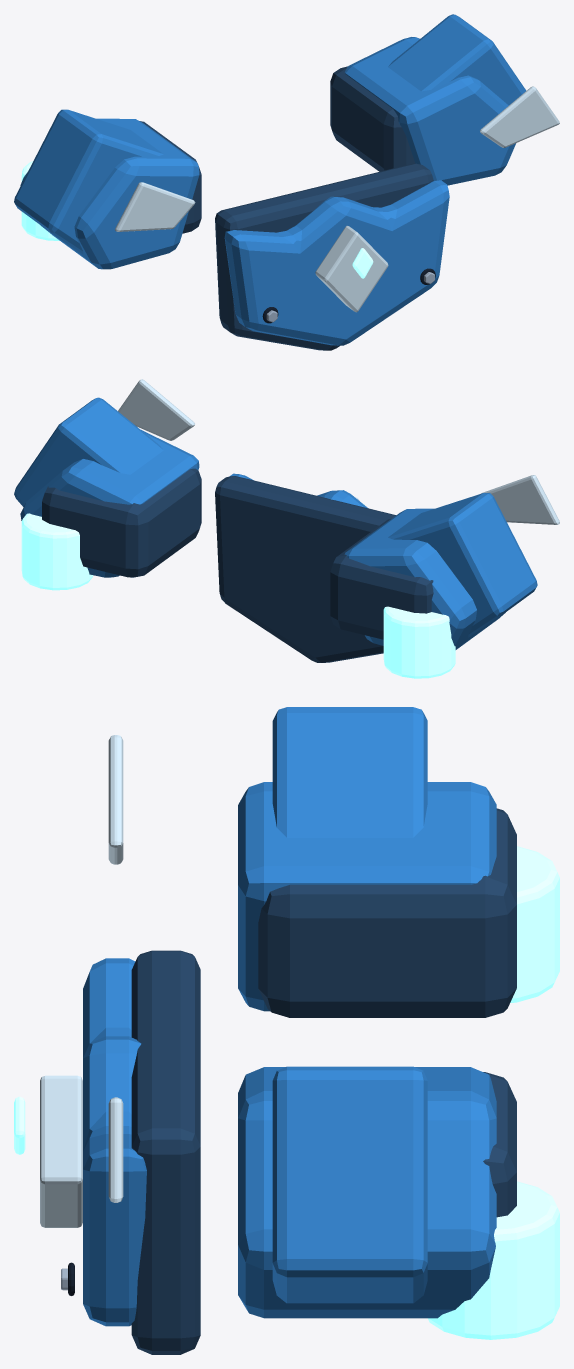
File: flux_frame.glb
3 views of the same model, one above another, from view 1: azimuth 30°, elevation 25°; view 2: azimuth 150°, elevation 25°; view 3: azimuth 270°, elevation 25° (orthographic). The views are drawn at different scales.
Parts seen in each view (by area): view 1: ModuleArmor; view 2: ModuleArmor; view 3: ModuleArmor.
Boxes of the visible parts, left/top/right/bottom form: ModuleArmor: left=14, top=14, right=559, bottom=350; ModuleArmor: left=14, top=379, right=559, bottom=678; ModuleArmor: left=14, top=707, right=559, bottom=1354.
Size of the model in its own units: 1.86 by 0.8627 by 0.95.
